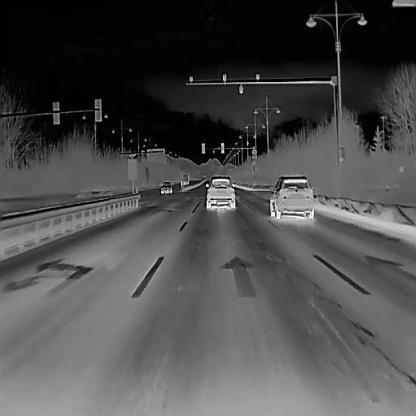car: (269, 173, 313, 219), (205, 175, 235, 209), (160, 182, 170, 194), (180, 174, 188, 184)
